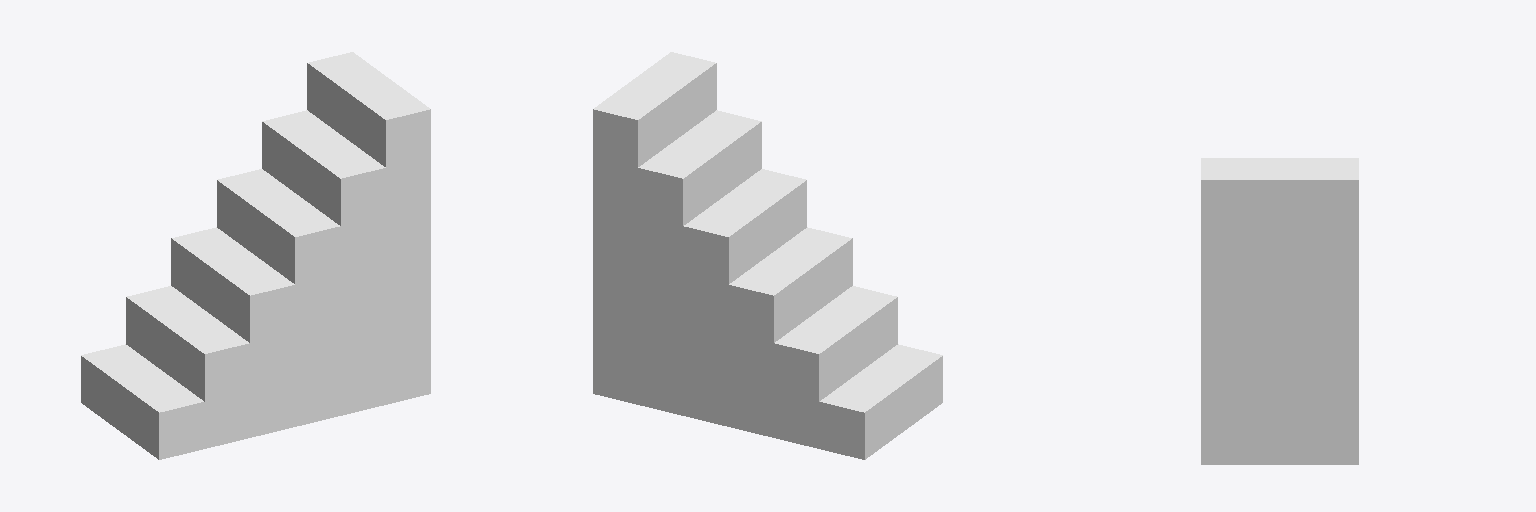
File: SlopeWall.obj
3 views of the same model, side by side, from view 1: azimuth 30°, elevation 25°; view 2: azimuth 150°, elevation 25°; view 3: azimuth 270°, elevation 25° (orthographic).
Visible parts, largest first — view 1: object 1; view 2: object 1; view 3: object 1.
Boxes of the visible parts, x1,y1,x2,y2 form: object 1: [81, 52, 430, 459]; object 1: [593, 52, 942, 459]; object 1: [1201, 158, 1358, 464].
Bounding box in the file's own units: 0.6 × 0.6 × 0.3.